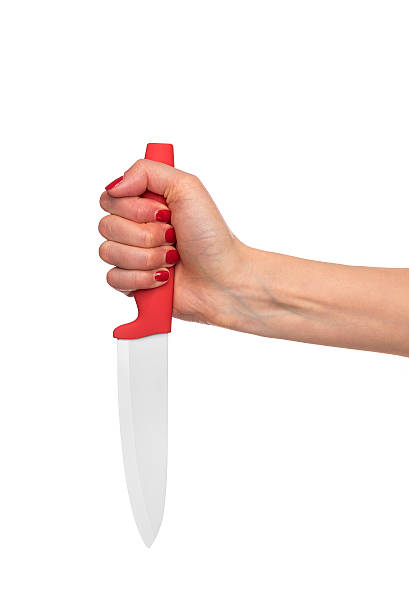knife: (115, 142, 175, 549)
